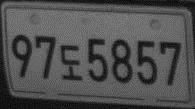5: (135, 40, 158, 85), (86, 37, 108, 82)
7: (158, 40, 182, 86), (34, 34, 56, 80)
8: (111, 39, 133, 84)
9: (11, 33, 33, 78)
도: (59, 43, 83, 82)
